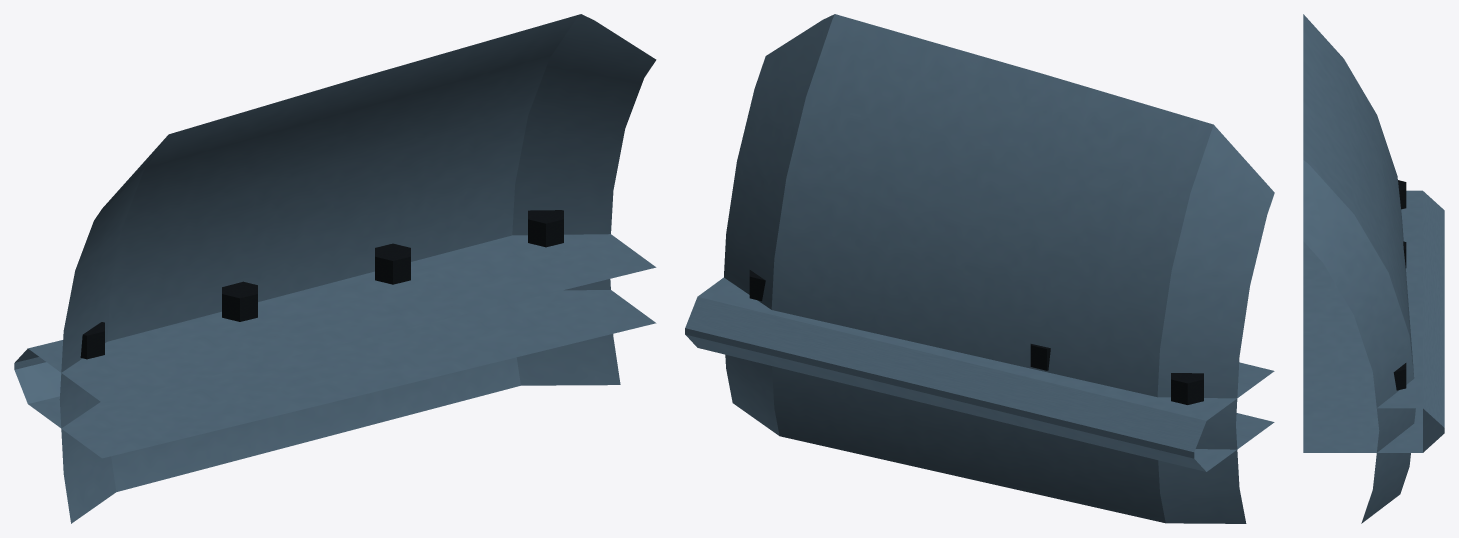
File: cell_26.obj
3 views of the same model, side by side, from view 1: azimuth 30°, elevation 25°; view 2: azimuth 150°, elevation 25°; view 3: azimuth 270°, elevation 25° (orthographic). The views are drawn at different scales.
Parts seen in each view (by area): view 1: cell_26; view 2: cell_26; view 3: cell_26.
Boxes of the visible parts, box(x1,y1,x2,y2) form: cell_26: box(14, 14, 656, 523); cell_26: box(685, 14, 1274, 523); cell_26: box(1303, 14, 1444, 523).
Size of the model in its own units: 1 by 0.7166 by 0.274.
